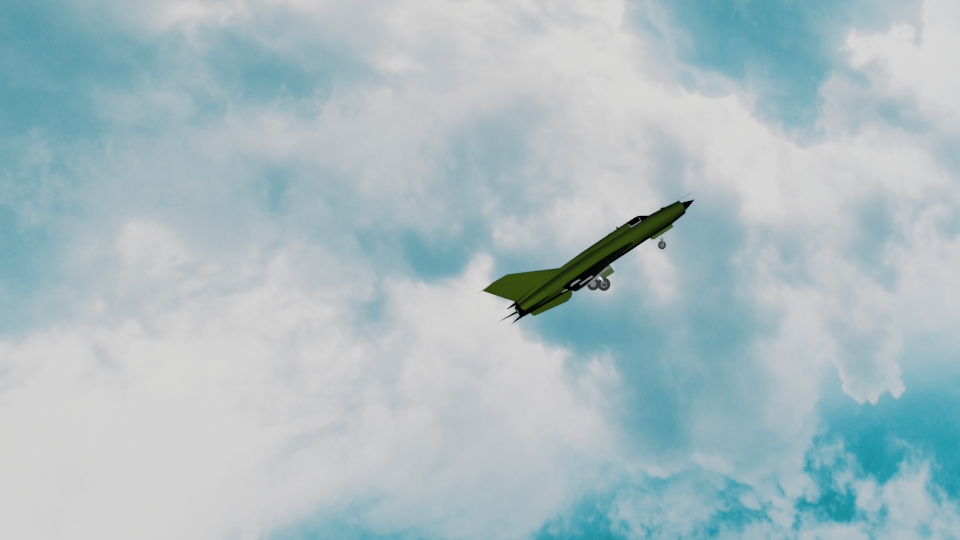plane: (481, 197, 697, 322)
